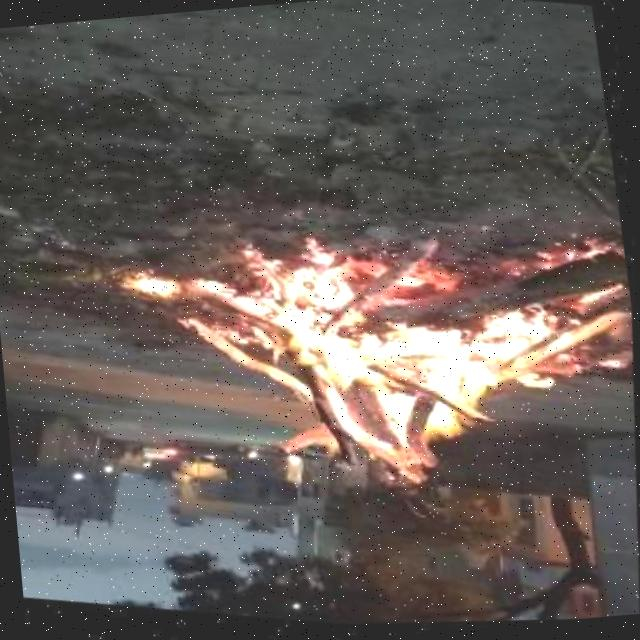fire: (176, 200, 584, 520)
